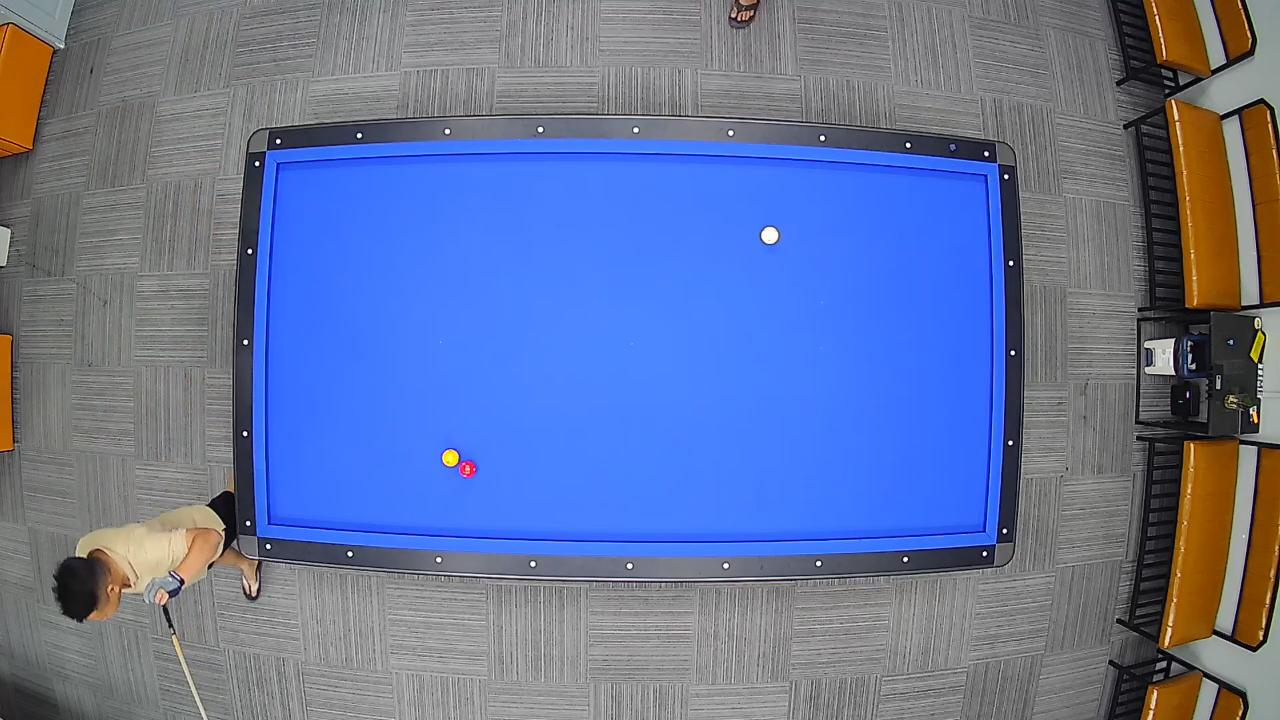Red: (458, 459, 477, 480)
White: (759, 225, 780, 247)
Yellow: (440, 448, 460, 468)
